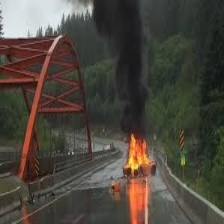fire: (125, 135, 153, 175)
smoke: (91, 1, 153, 133)
